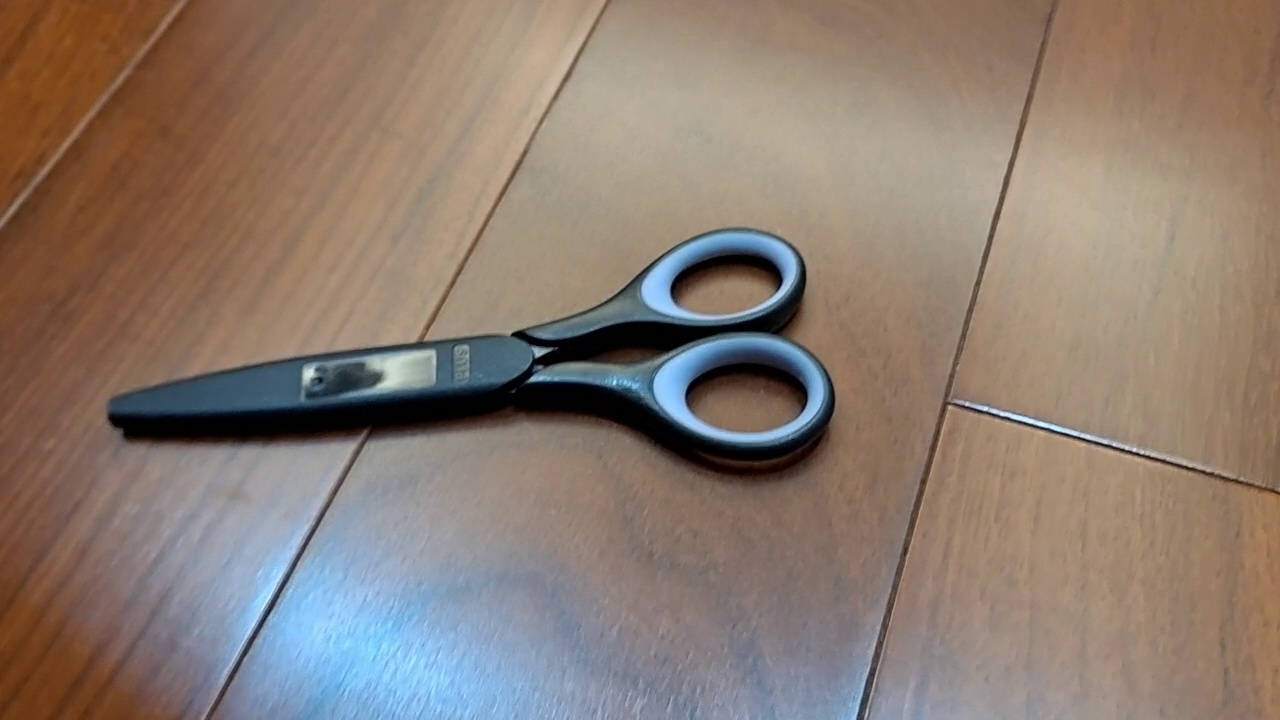scissors: (103, 224, 839, 467)
